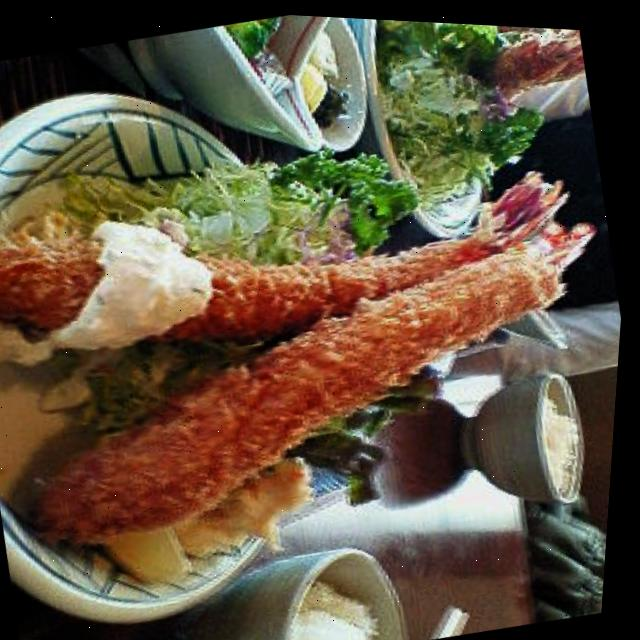炸货点心: (0, 68, 636, 504)
熟制海鲜: (0, 68, 636, 504)
